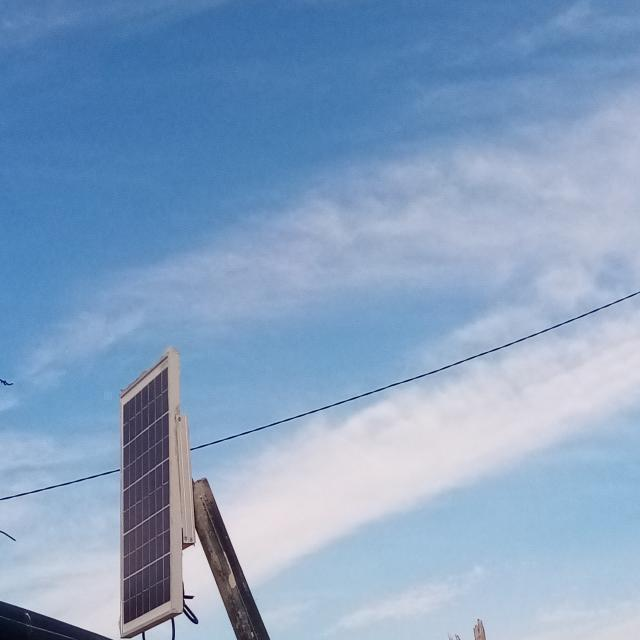Normal Solar Panel: (120, 353, 172, 635)
